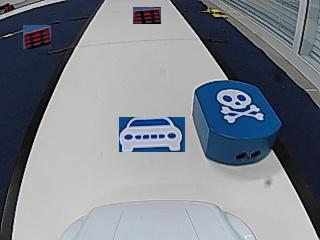danger: (219, 91, 260, 123)
